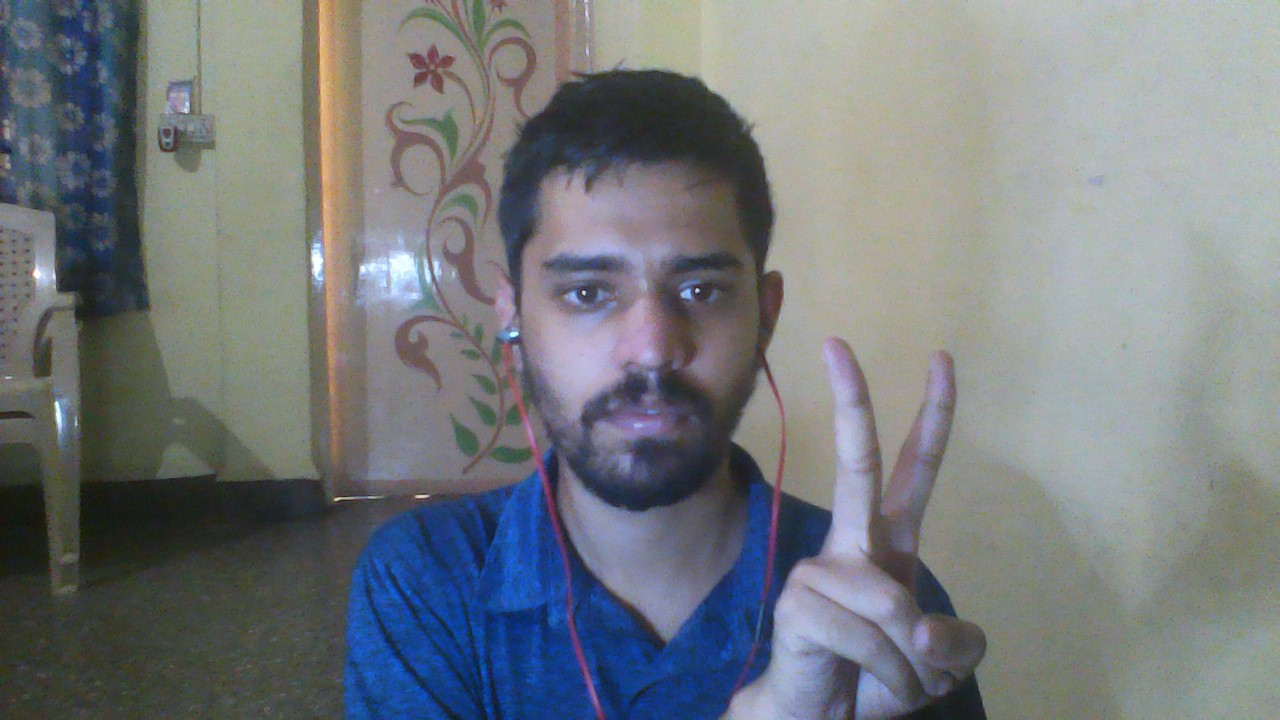v: (703, 306, 998, 720)
